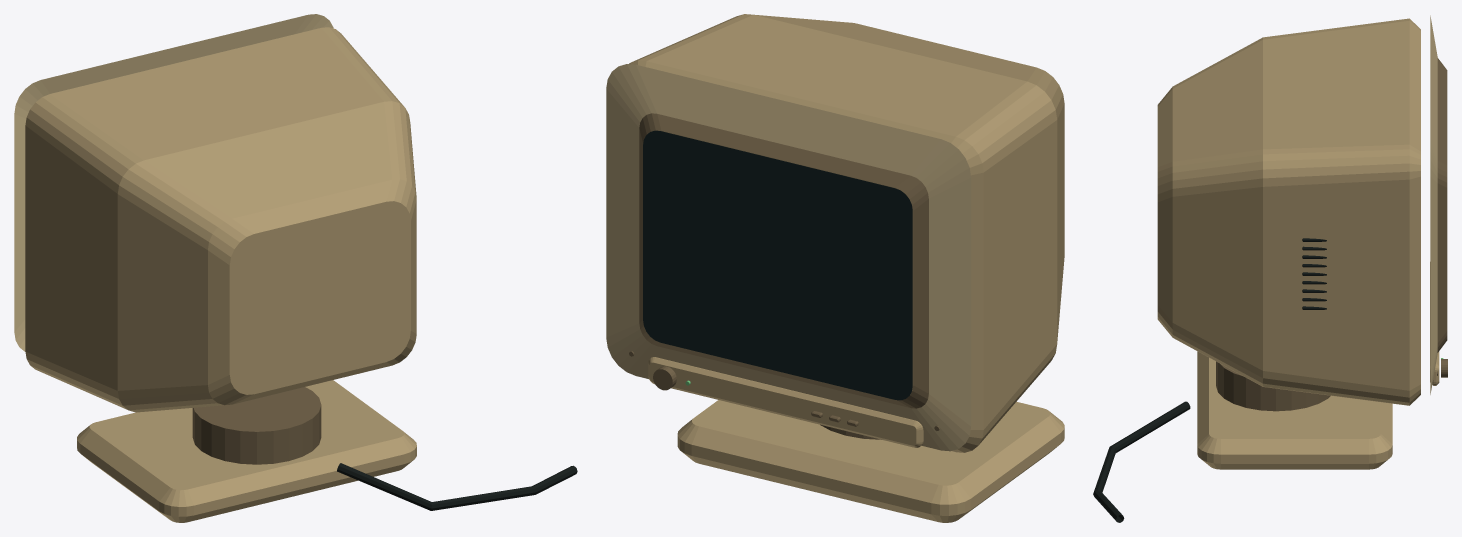
Rendered from crt_monitor.obj.
The picture shows the model from 3 angles, left to right: view 1: azimuth 30°, elevation 25°; view 2: azimuth 150°, elevation 25°; view 3: azimuth 270°, elevation 25°; orthographic projection. The views are drawn at different scales.
Visible parts, largest first — view 1: tube_casing, swivel_base, front_bezel, swivel, power_cable; view 2: tube_casing, crt_screen_4_3, front_bezel, swivel_base, screen_recess, control_strip; view 3: tube_casing, swivel_base, screen_recess, front_bezel, swivel, power_cable, tube_vent.
Part boxes in pixels (x1=…): tube_casing: x1=25, y1=27, x2=416, y2=412; swivel_base: x1=77, y1=380, x2=416, y2=522; front_bezel: x1=14, y1=14, x2=333, y2=351; swivel: x1=192, y1=387, x2=321, y2=464; power_cable: x1=337, y1=463, x2=577, y2=510; tube_casing: x1=629, y1=14, x2=1064, y2=452; crt_screen_4_3: x1=643, y1=130, x2=912, y2=400; front_bezel: x1=606, y1=64, x2=971, y2=451; swivel_base: x1=677, y1=400, x2=1064, y2=522; screen_recess: x1=639, y1=113, x2=928, y2=408; control_strip: x1=648, y1=357, x2=923, y2=447; tube_casing: x1=1157, y1=18, x2=1420, y2=405; swivel_base: x1=1197, y1=351, x2=1392, y2=469; screen_recess: x1=1437, y1=58, x2=1447, y2=352; front_bezel: x1=1430, y1=15, x2=1437, y2=394; swivel: x1=1216, y1=361, x2=1330, y2=411; power_cable: x1=1093, y1=401, x2=1190, y2=522; tube_vent: x1=1302, y1=238, x2=1326, y2=309.
Size of the model in its own units: 1.13 by 0.995 by 0.944.
